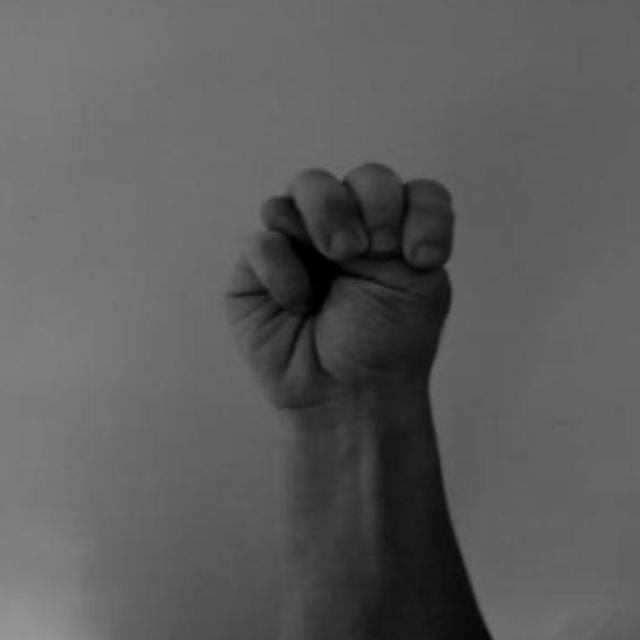M: (216, 140, 471, 425)
